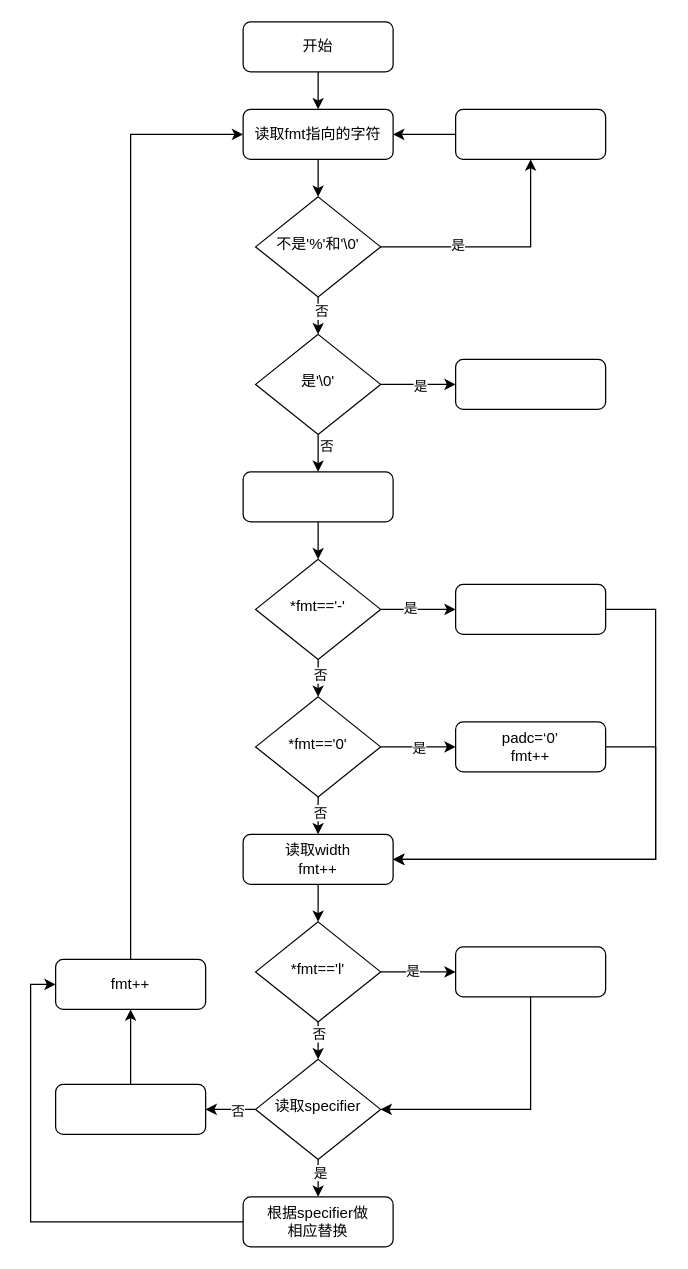
Image size: 688x1269. Some labels were removed from this diagram. Here are the shapes that lost their labels. From the top down, the centre of each, then its label:
the point at 530,133: 输出字符
the point at 530,383: 跳出循环
the point at 317,496: 初始化所有参数 fmt++
the point at 530,608: ladjust=1 fmt++
the point at 530,971: long_flag=1 fmt++
the point at 130,1108: 输出一个‘%’
